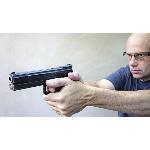Pistol: (8, 63, 74, 97)
